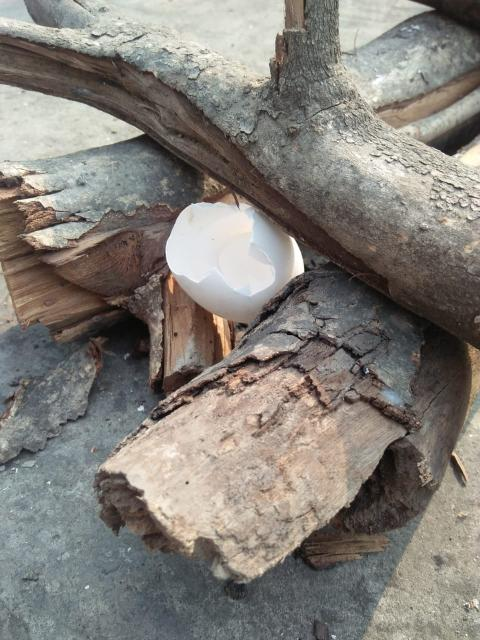Roto: (164, 201, 306, 324)
